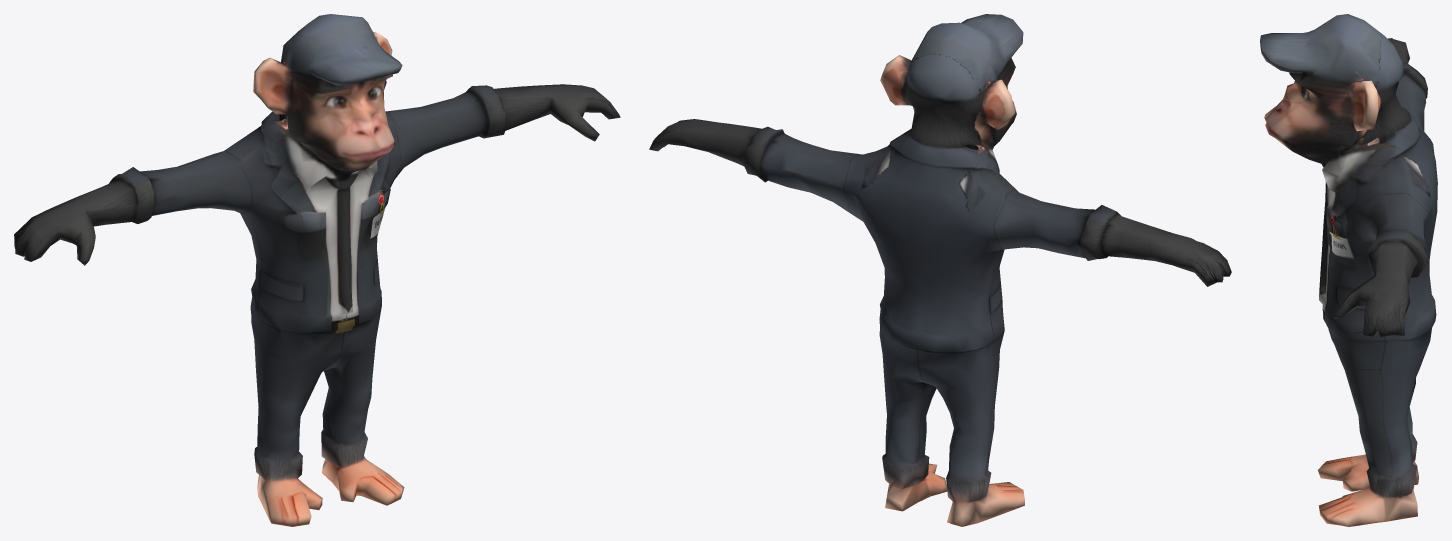
The model's file is _1128213615_texture.fbx.
3 views of the same model, side by side, from view 1: azimuth 30°, elevation 25°; view 2: azimuth 150°, elevation 25°; view 3: azimuth 270°, elevation 25° (orthographic). The views are drawn at different scales.
Parts seen in each view (by area): view 1: Mesh1.0; view 2: Mesh1.0; view 3: Mesh1.0.
Boxes of the visible parts, x1,y1,x2,y2 form: Mesh1.0: (14, 14, 620, 526); Mesh1.0: (649, 14, 1231, 526); Mesh1.0: (1260, 14, 1437, 526).
Size of the model in its own units: 200 by 157 by 53.08.
1 material, 1 textured.
